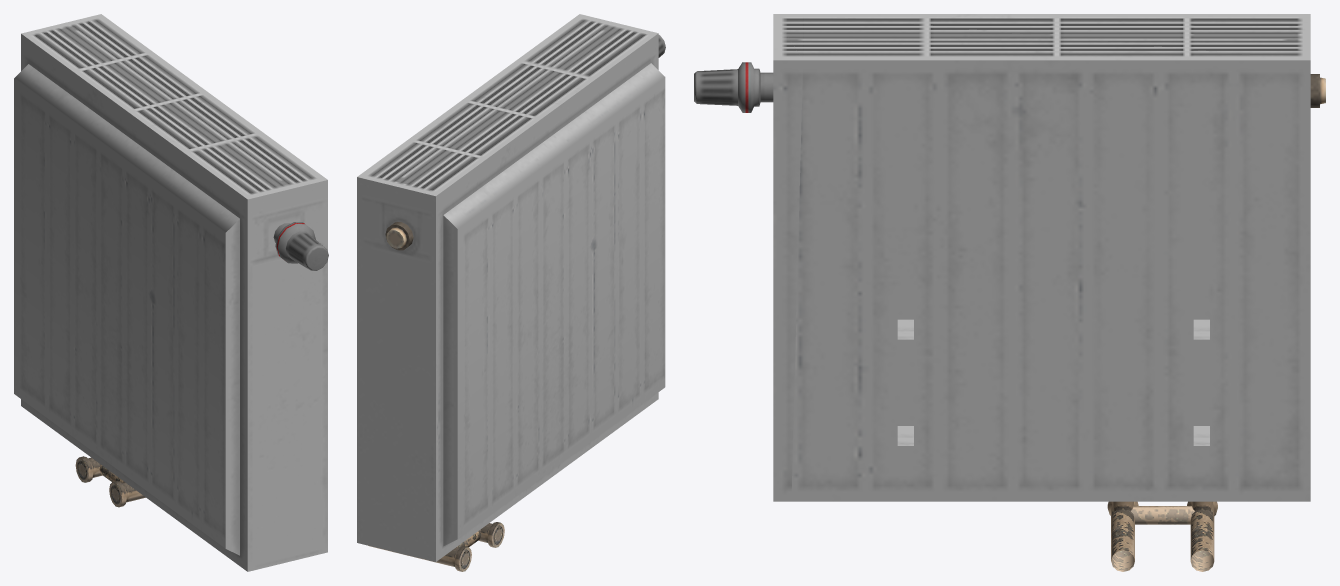
File: HH_Radiator.fbx
3 renders of one model, left to right at view 1: azimuth 30°, elevation 25°; view 2: azimuth 150°, elevation 25°; view 3: azimuth 270°, elevation 25°, orthographic. The views are drawn at different scales.
Visible parts, largest first — view 1: HH_Radiator_LOD0; view 2: HH_Radiator_LOD0; view 3: HH_Radiator_LOD0.
Boxes of the visible parts, x1,y1,x2,y2 form: HH_Radiator_LOD0: (14,14,328,571); HH_Radiator_LOD0: (357,14,665,571); HH_Radiator_LOD0: (694,14,1325,571).
Size of what is drawn, in the model's own units: 22.57 by 69.54 by 80.22.
